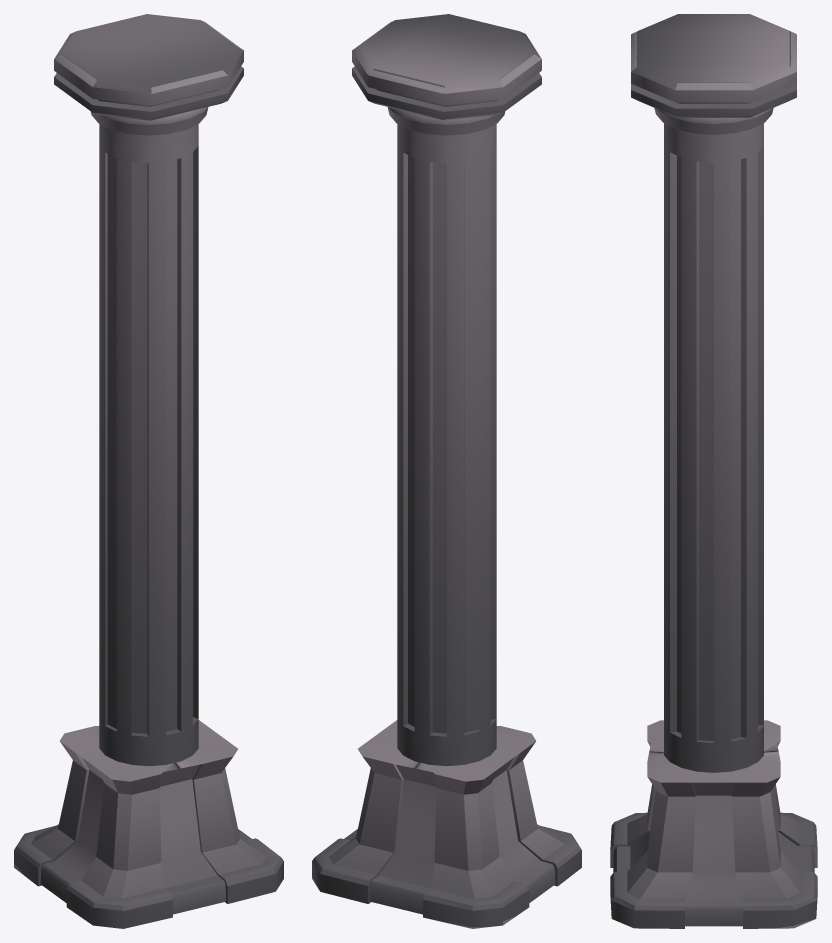
The model's file is ColonneFull.FBX.
The picture shows the model from 3 angles, left to right: view 1: azimuth 30°, elevation 25°; view 2: azimuth 150°, elevation 25°; view 3: azimuth 270°, elevation 25°; orthographic projection.
Visible parts, largest first — view 1: Column_Full; view 2: Column_Full; view 3: Column_Full.
Part boxes in pixels (box(x1,y1,x2,y2)): Column_Full: box(14, 14, 283, 928); Column_Full: box(312, 14, 581, 928); Column_Full: box(610, 14, 817, 928).
Bounding box in the file's own units: 245 × 1000 × 225.
